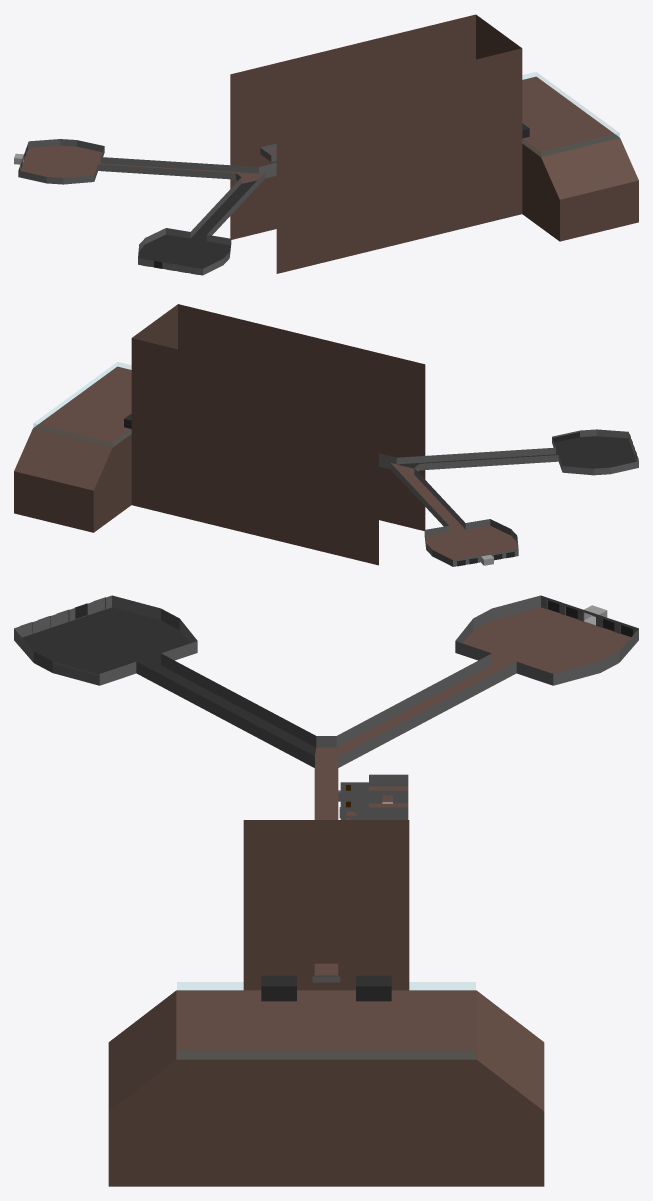
File: WB_nivel3_New_Colors.fbx
3 views of the same model, one above another, from view 1: azimuth 30°, elevation 25°; view 2: azimuth 150°, elevation 25°; view 3: azimuth 270°, elevation 25° (orthographic). The views are drawn at different scales.
Visible parts, largest first — view 1: polySurface1880; view 2: polySurface1880; view 3: polySurface1880.
Part boxes in pixels (bbox=[...]): polySurface1880: bbox=[14, 14, 638, 275]; polySurface1880: bbox=[14, 304, 638, 566]; polySurface1880: bbox=[14, 595, 638, 1186].
Size of the model in its own units: 22116 by 7010 by 13352.
